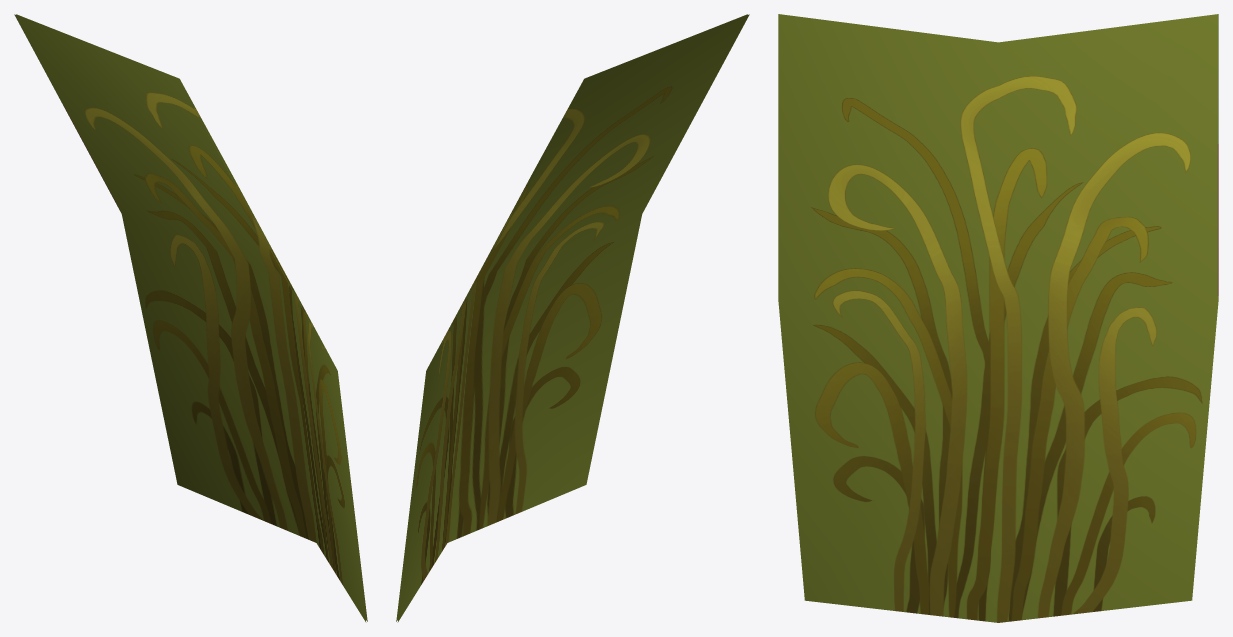
File: grass_01.fbx
The picture shows the model from 3 angles, left to right: view 1: azimuth 30°, elevation 25°; view 2: azimuth 150°, elevation 25°; view 3: azimuth 270°, elevation 25°; orthographic projection. The views are drawn at different scales.
Parts seen in each view (by area): view 1: grass_01; view 2: grass_01; view 3: grass_01.
Boxes of the visible parts, <box> form: grass_01: <box>14,14,367,622</box>; grass_01: <box>396,14,749,622</box>; grass_01: <box>778,14,1218,622</box>.
Bounding box in the file's own units: 0.9255 × 2.24 × 1.75.
